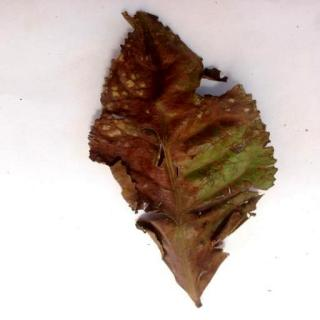Algal Leaf: (89, 11, 278, 310)
